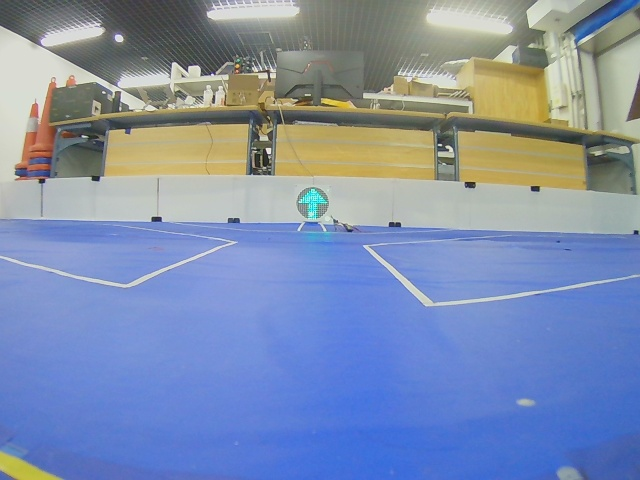straight_green: (297, 187, 329, 221)
